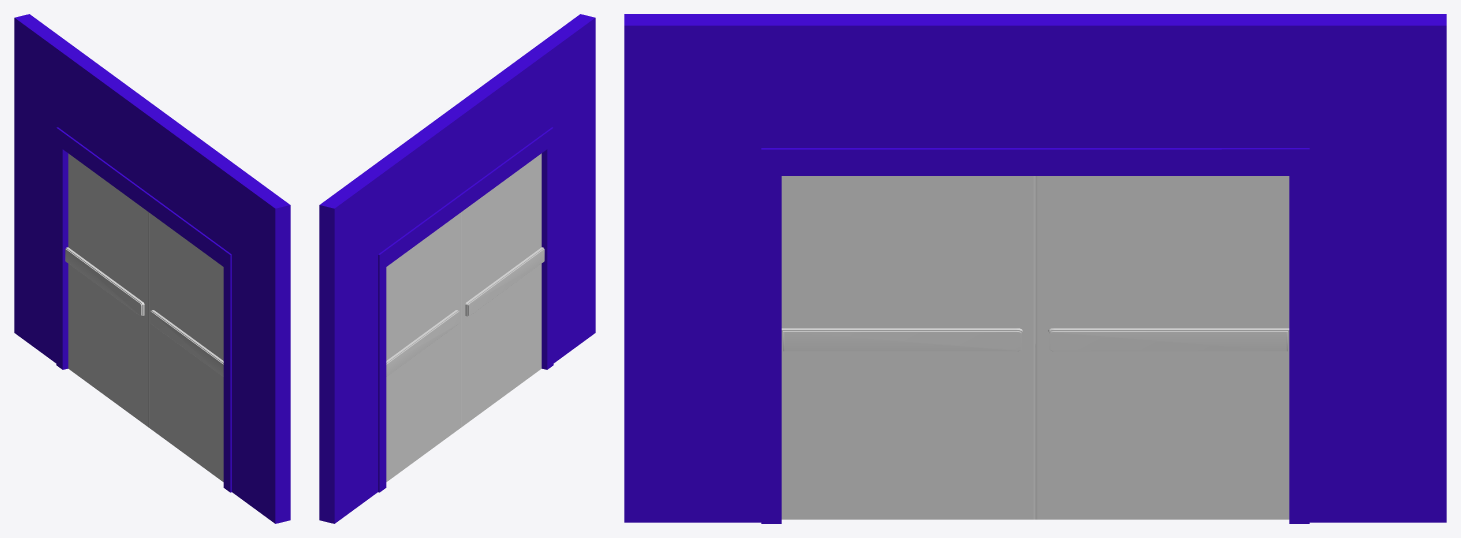
Rendered from Hallway_Wall_Door_3u.fbx.
3 views of the same model, side by side, from view 1: azimuth 30°, elevation 25°; view 2: azimuth 150°, elevation 25°; view 3: azimuth 270°, elevation 25° (orthographic). The views are drawn at different scales.
Visible parts, largest first — view 1: Hallway_Wall_Door_3u, Gym_Door_02, Gym_Door_02.001, Gym_Door_02_Handle.001, Gym_Door_02_Handle.003; view 2: Hallway_Wall_Door_3u, Gym_Door_02.001, Gym_Door_02, Gym_Door_02_Handle.003, Gym_Door_02_Handle.001; view 3: Hallway_Wall_Door_3u, Gym_Door_02, Gym_Door_02.001, Gym_Door_02_Handle, Gym_Door_02_Handle.002.
Boxes of the visible parts, bbox=[...] form: Hallway_Wall_Door_3u: bbox=[14, 14, 290, 523]; Gym_Door_02: bbox=[68, 153, 148, 427]; Gym_Door_02.001: bbox=[149, 212, 223, 481]; Gym_Door_02_Handle.001: bbox=[65, 247, 144, 316]; Gym_Door_02_Handle.003: bbox=[150, 310, 223, 376]; Hallway_Wall_Door_3u: bbox=[319, 14, 595, 523]; Gym_Door_02.001: bbox=[461, 153, 541, 427]; Gym_Door_02: bbox=[386, 212, 460, 481]; Gym_Door_02_Handle.003: bbox=[465, 247, 544, 316]; Gym_Door_02_Handle.001: bbox=[386, 310, 459, 376]; Hallway_Wall_Door_3u: bbox=[624, 14, 1446, 523]; Gym_Door_02: bbox=[1035, 176, 1289, 519]; Gym_Door_02.001: bbox=[781, 176, 1035, 519]; Gym_Door_02_Handle: bbox=[1048, 328, 1289, 351]; Gym_Door_02_Handle.002: bbox=[781, 328, 1022, 351].
Bounding box in the file's own units: 124 × 2000 × 3000.
